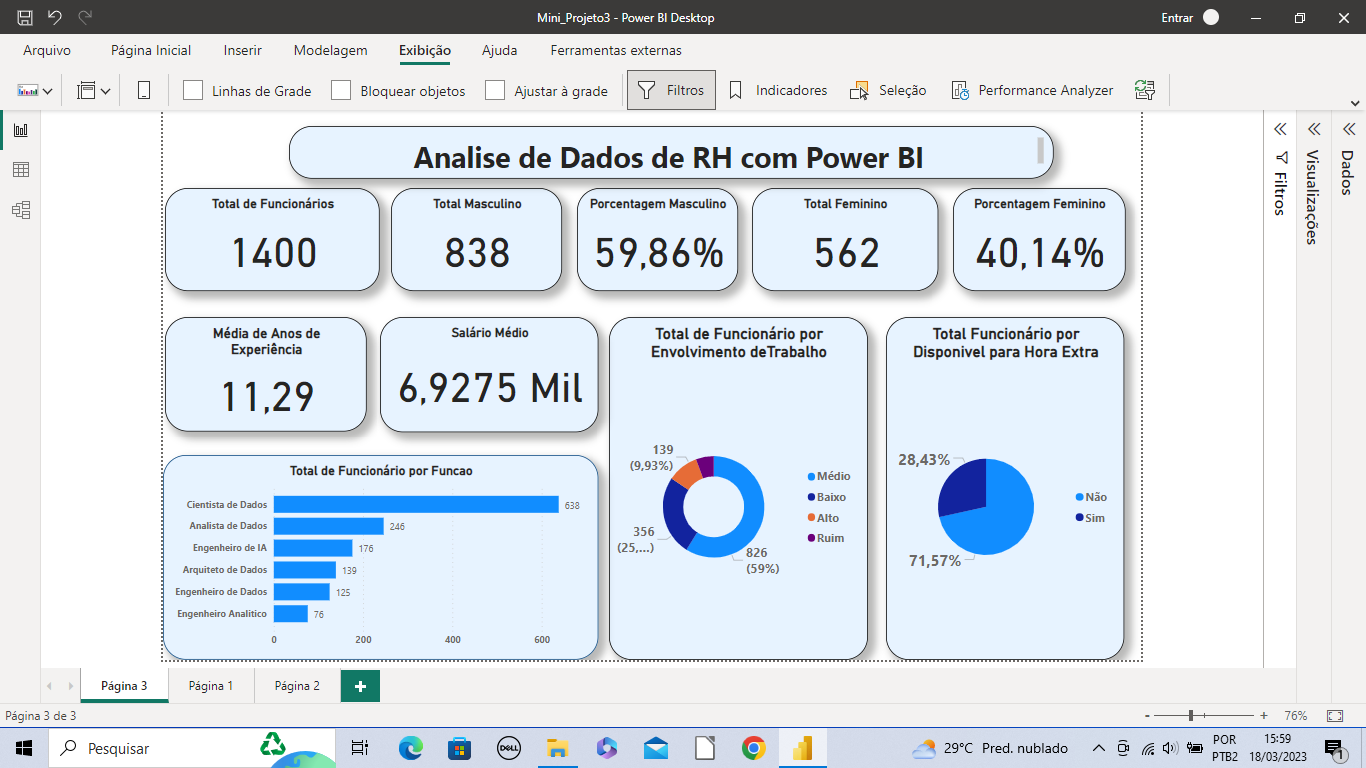

The dashboard page shown, as its layout file describes it:
{"tool":"powerbi","page":{"name":"Página 3","canvas":[1280,720],"ordinal":0},"visuals":[{"type":"clusteredBarChart","title":"Total de Funcionário por Funcao","fields":{"Y":["Medidas.TotalFunc"],"Category":["DatasetRH.Funcao"]},"box":[0,451.4,569.8,268.4],"z":0},{"type":"donutChart","title":"Total de Funcionário por Envolvimento deTrabalho","fields":{"Category":["DatasetRH.Envolvimento_Trabalho"],"Y":["Medidas.TotalFunc"]},"box":[583.6,271.1,338.6,448.7],"z":1000},{"type":"pieChart","title":"Total Funcionário por Disponivel para Hora Extra","fields":{"Y":["Medidas.TotalFunc"],"Category":["DatasetRH.Disponivel_Hora_Extra2"]},"box":[946.9,271.1,312.4,448.7],"z":2000},{"type":"card","title":"Porcentagem Feminino","fields":{"Values":["Medidas.%feminino"]},"box":[1033.6,101.8,225.7,134.9],"z":3000},{"type":"card","title":"Porcentagem Masculino","fields":{"Values":["Medidas.%masculino"]},"box":[542.3,101.8,210.6,134.9],"z":4000},{"type":"card","title":"Total de Funcionários","fields":{"Values":["Medidas.TotalFunc"]},"box":[2.8,101.8,280.8,134.9],"z":5000},{"type":"card","title":"Total Feminino","fields":{"Values":["Medidas.TotalFeminino"]},"box":[770.8,101.8,243.6,134.9],"z":6000},{"type":"card","title":"Total Masculino","fields":{"Values":["Medidas.TotalMasculino"]},"box":[298.7,101.8,224.3,134.9],"z":7000},{"type":"card","title":"Salário Médio","fields":{"Values":["Medidas.salario_medio"]},"box":[283.5,271.1,286.3,151.4],"z":8000},{"type":"card","title":"Média de Anos de Experiência","fields":{"Values":["Medidas.anos_experiencia"]},"box":[2.8,271.1,264.3,150],"z":9000},{"type":"textbox","box":[165.2,20.6,1000.6,68.8],"z":10000}]}

Visuals, with their boxes on the page's 1280x720 design canvas (x1, y1, x2, y2). These are canvas units, not pixel positions in the 1366x768 screenshot, which may show the page scaled, cropped or inside an application window:
"Total de Funcionário por Funcao" clusteredBarChart: select_region(0, 451, 570, 720)
"Total de Funcionário por Envolvimento deTrabalho" donutChart: select_region(584, 271, 922, 720)
"Total Funcionário por Disponivel para Hora Extra" pieChart: select_region(947, 271, 1259, 720)
"Porcentagem Feminino" card: select_region(1034, 102, 1259, 237)
"Porcentagem Masculino" card: select_region(542, 102, 753, 237)
"Total de Funcionários" card: select_region(3, 102, 284, 237)
"Total Feminino" card: select_region(771, 102, 1014, 237)
"Total Masculino" card: select_region(299, 102, 523, 237)
"Salário Médio" card: select_region(284, 271, 570, 422)
"Média de Anos de Experiência" card: select_region(3, 271, 267, 421)
textbox: select_region(165, 21, 1166, 89)
